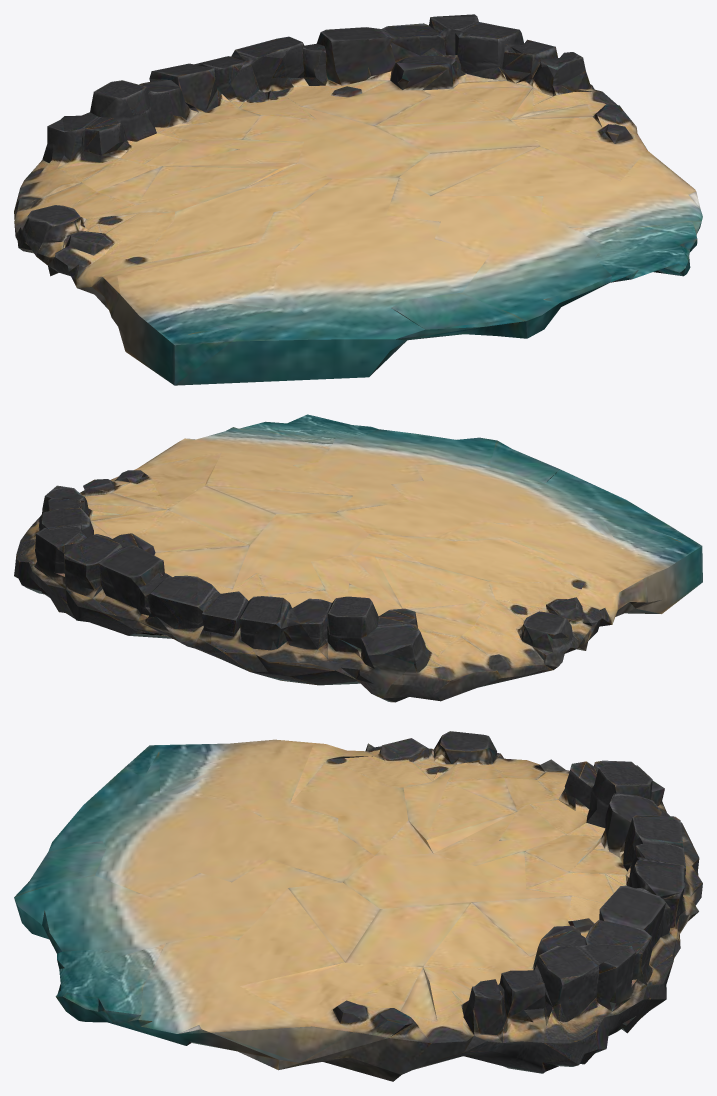
The model's file is beach-shelf.lod.glb.
3 renders of one model, top to bottom at view 1: azimuth 30°, elevation 25°; view 2: azimuth 150°, elevation 25°; view 3: azimuth 270°, elevation 25°, orthographic. The views are drawn at different scales.
Parts seen in each view (by area): view 1: output_unwrapped; view 2: output_unwrapped; view 3: output_unwrapped.
Boxes of the visible parts, bbox=[...] form: output_unwrapped: bbox=[14, 14, 702, 385]; output_unwrapped: bbox=[14, 414, 702, 702]; output_unwrapped: bbox=[14, 731, 702, 1081].
Bounding box in the file's own units: 1.9 × 0.3028 × 1.82.
Materials: 1 (1 with a texture image).
